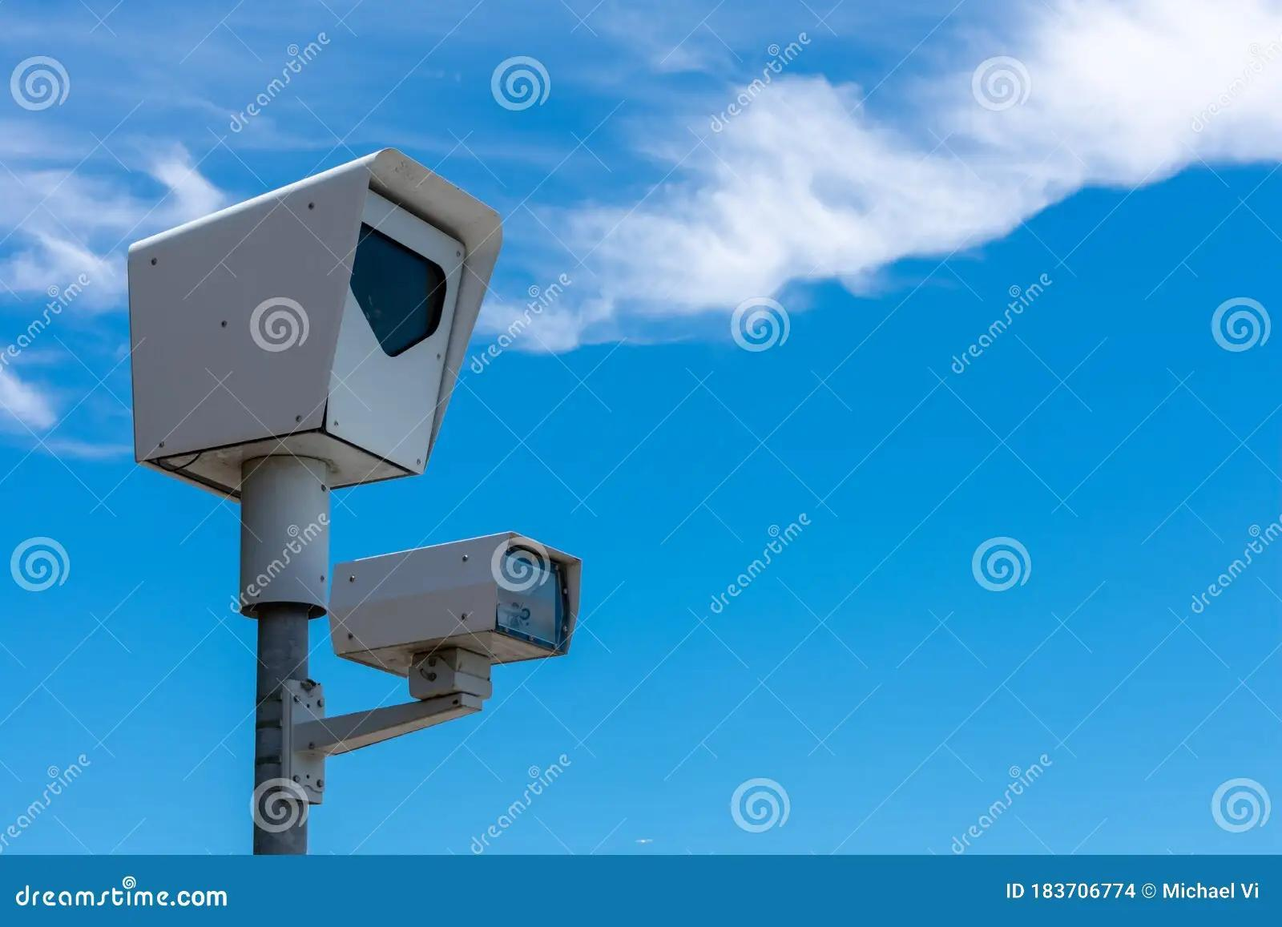Monitor: (126, 145, 502, 502), (326, 528, 582, 684)
